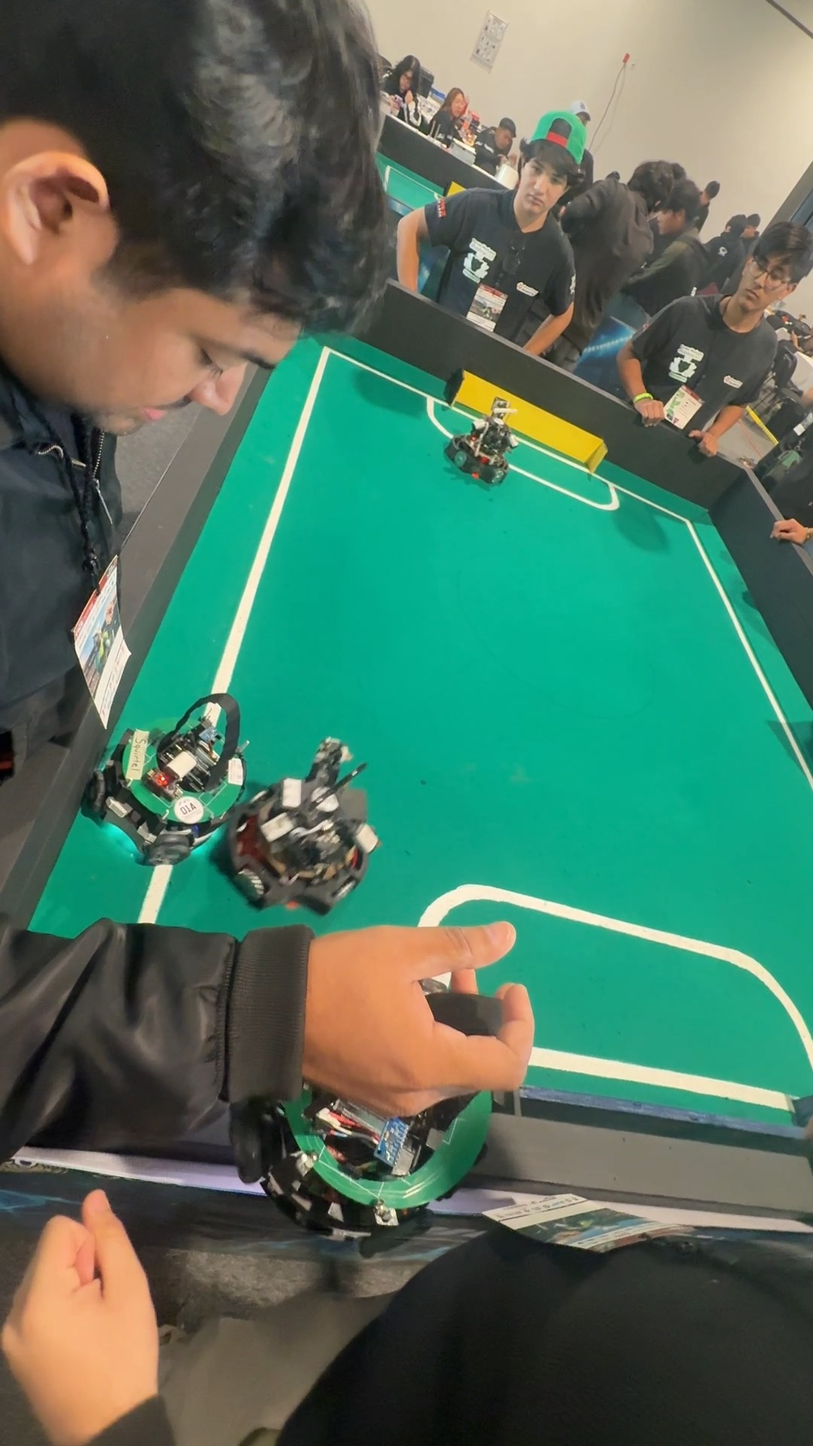Robot: (221, 730, 382, 925), (89, 680, 247, 874), (456, 384, 518, 487)
